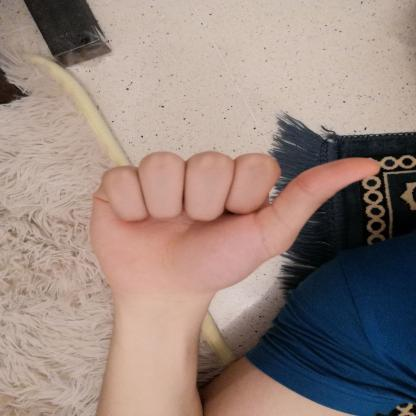DAD: (70, 138, 402, 311)
